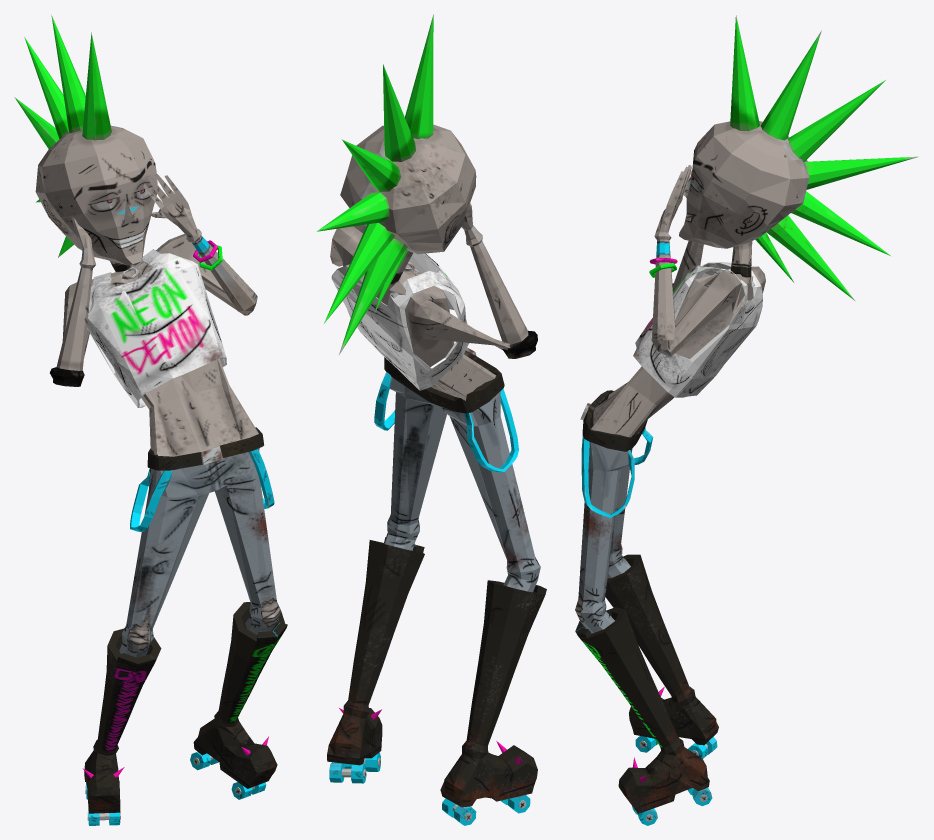
File: punkAnimation_000011.obj
3 renders of one model, left to right at view 1: azimuth 30°, elevation 25°; view 2: azimuth 150°, elevation 25°; view 3: azimuth 270°, elevation 25°, orthographic. The views are drawn at different scales.
Parts seen in each view (by area): view 1: Cube.004_Cube.003; view 2: Cube.004_Cube.003; view 3: Cube.004_Cube.003.
Part boxes in pixels (<box>): Cube.004_Cube.003: <box>14,14,287,825</box>; Cube.004_Cube.003: <box>317,14,546,825</box>; Cube.004_Cube.003: <box>575,15,918,825</box>.
Bounding box in the file's own units: 1.96 × 7.12 × 2.96.
